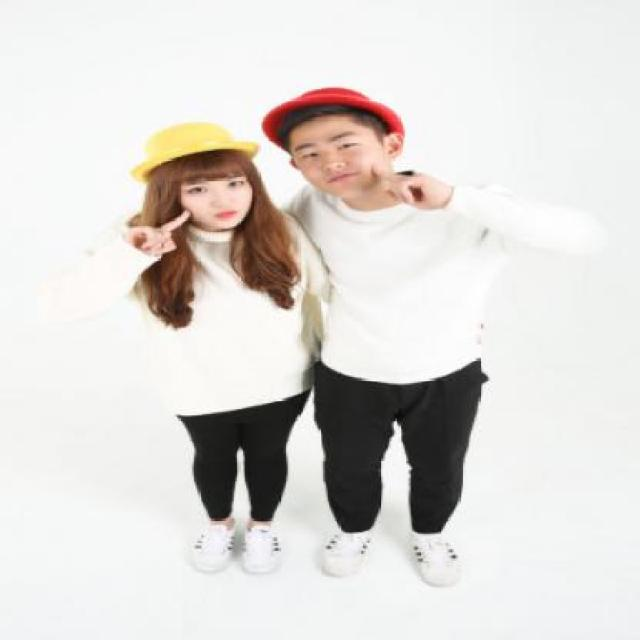hat: (260, 86, 408, 152), (132, 123, 260, 180)
